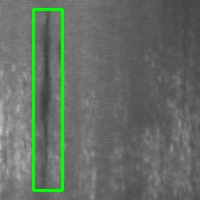inclusion: (33, 9, 62, 190)
